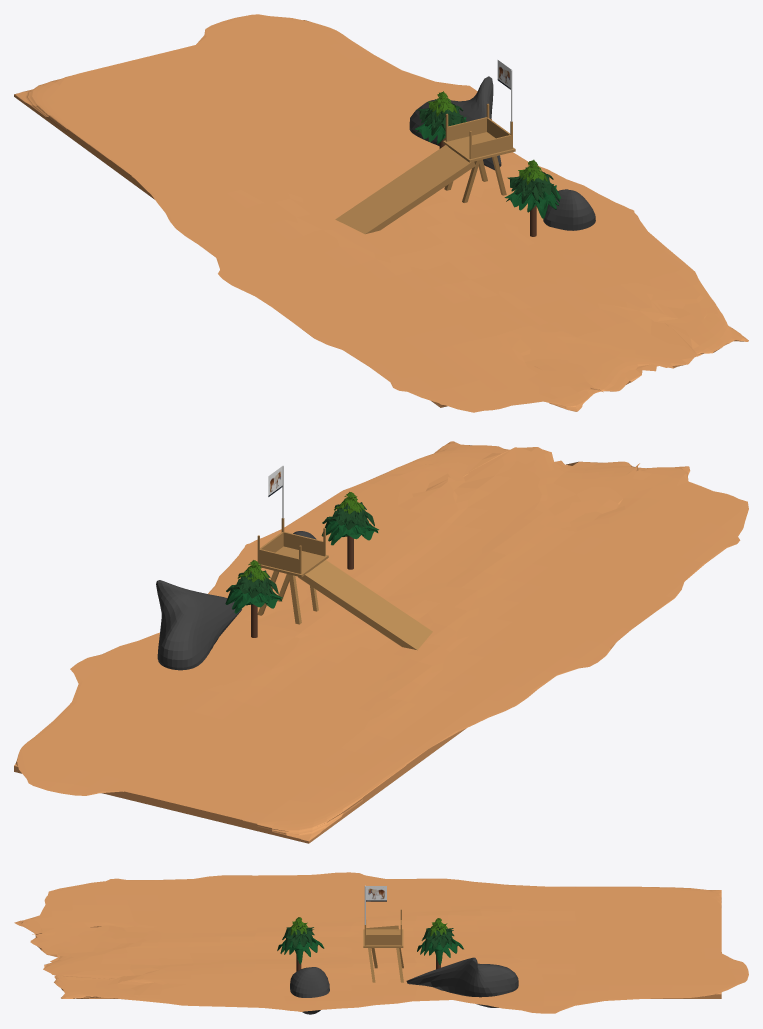
File: kumsal.fbx
3 renders of one model, top to bottom at view 1: azimuth 30°, elevation 25°; view 2: azimuth 150°, elevation 25°; view 3: azimuth 270°, elevation 25°, orthographic. The views are drawn at different scales.
Visible parts, largest first — view 1: Cube, Cube.016, Sphere, Sphere.001, Cube.009; view 2: Cube, Cube.016, Sphere.001, Cube.002, Cube.009; view 3: Cube, Sphere.001, Cube.016, Sphere, Cube.009, Cube.002, stock-photo-brown-with-white-piebald-shetland-pony-standing-, Cube.001, Cube.008.
Boxes of the visible parts, x1,y1,x2,y2 form: Cube: [14, 14, 748, 412]; Cube.016: [335, 103, 515, 234]; Sphere: [543, 189, 595, 230]; Sphere.001: [409, 76, 501, 170]; Cube.009: [504, 185, 560, 218]; Cube: [14, 441, 748, 843]; Cube.016: [257, 518, 432, 650]; Sphere.001: [156, 580, 241, 670]; Cube.002: [225, 584, 282, 613]; Cube.009: [321, 516, 378, 545]; Cube: [14, 872, 748, 1013]; Sphere.001: [406, 957, 518, 1007]; Cube.016: [363, 909, 403, 982]; Sphere: [290, 967, 329, 1014]; Cube.009: [277, 937, 324, 964]; Cube.002: [417, 938, 463, 964]; stock-photo-brown-with-white-piebald-shetland-pony-standing-: [366, 886, 386, 901]; Cube.001: [421, 928, 454, 951]; Cube.008: [282, 927, 314, 950].
Bounding box in the file's own units: 10848 × 4285 × 23856.
